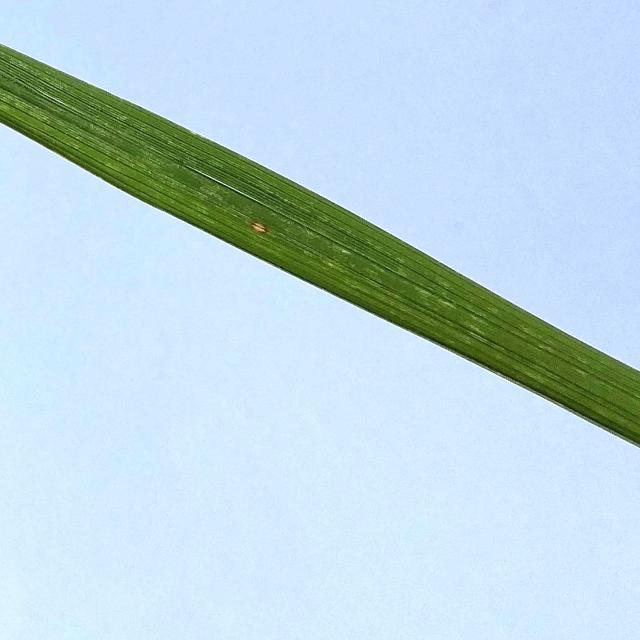Blast: (247, 215, 273, 239)
